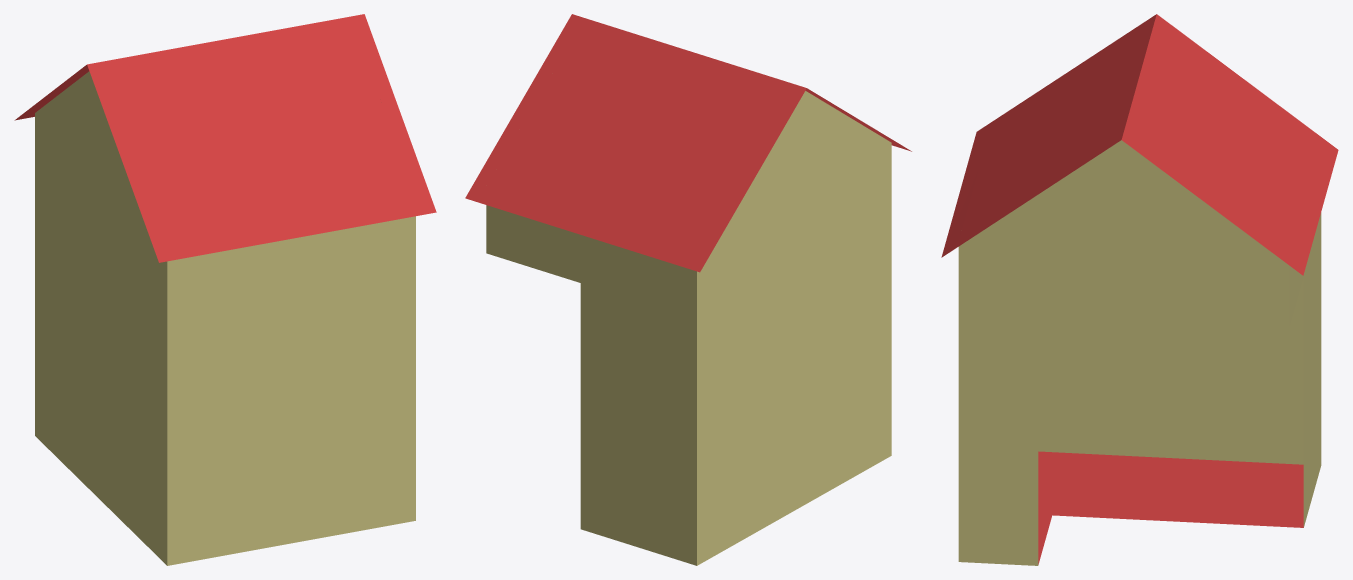
3 renders of one model, left to right at view 1: azimuth 30°, elevation 25°; view 2: azimuth 150°, elevation 25°; view 3: azimuth 270°, elevation 25°, orthographic. The views are drawn at different scales.
Bounding box in the file's own units: 10.92 × 12.71 × 15.43.
